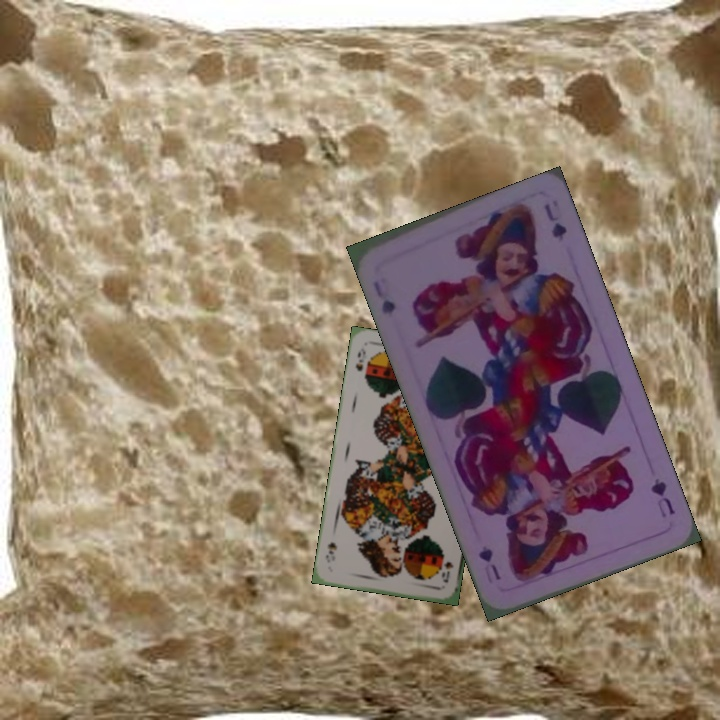GU: (646, 474, 679, 520), (369, 277, 398, 318)
SO: (352, 344, 369, 374), (438, 557, 456, 585)
